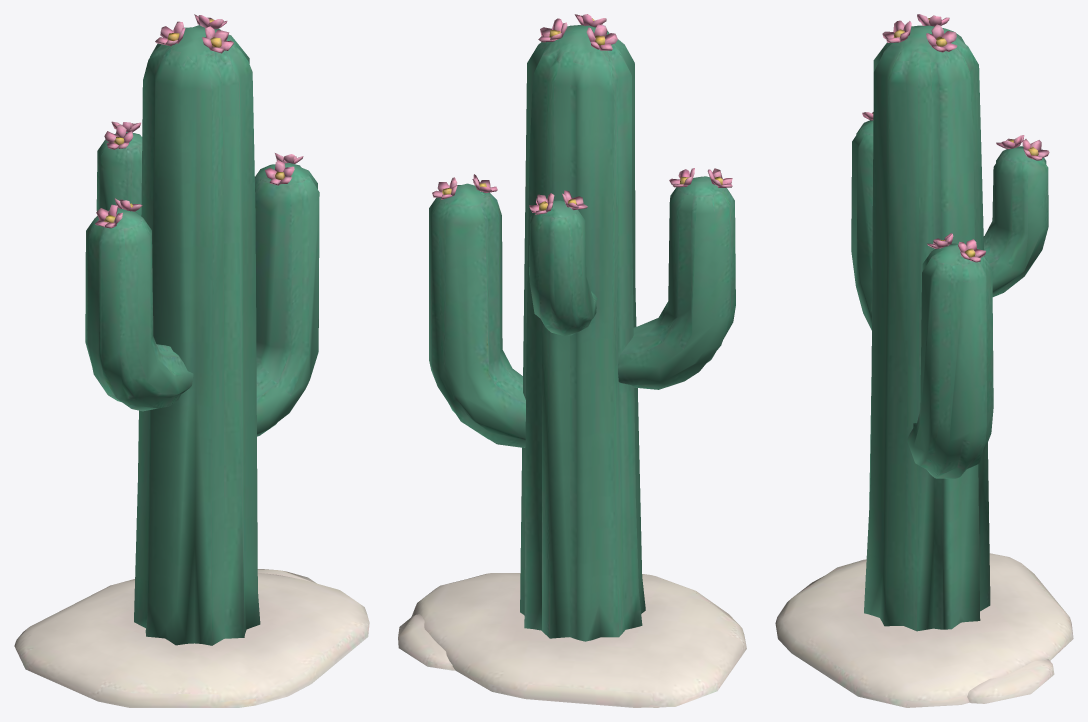
File: cactus.glb
The picture shows the model from 3 angles, left to right: view 1: azimuth 30°, elevation 25°; view 2: azimuth 150°, elevation 25°; view 3: azimuth 270°, elevation 25°; orthographic projection.
Parts seen in each view (by area): view 1: cactus_body; view 2: cactus_body; view 3: cactus_body.
Boxes of the visible parts, x1,y1,x2,y2 form: cactus_body: (14, 14, 369, 707); cactus_body: (398, 14, 746, 707); cactus_body: (775, 14, 1073, 707).
Size of the model in its own units: 1.8 by 3.41 by 1.51.
Materials: 1 (1 with a texture image).
